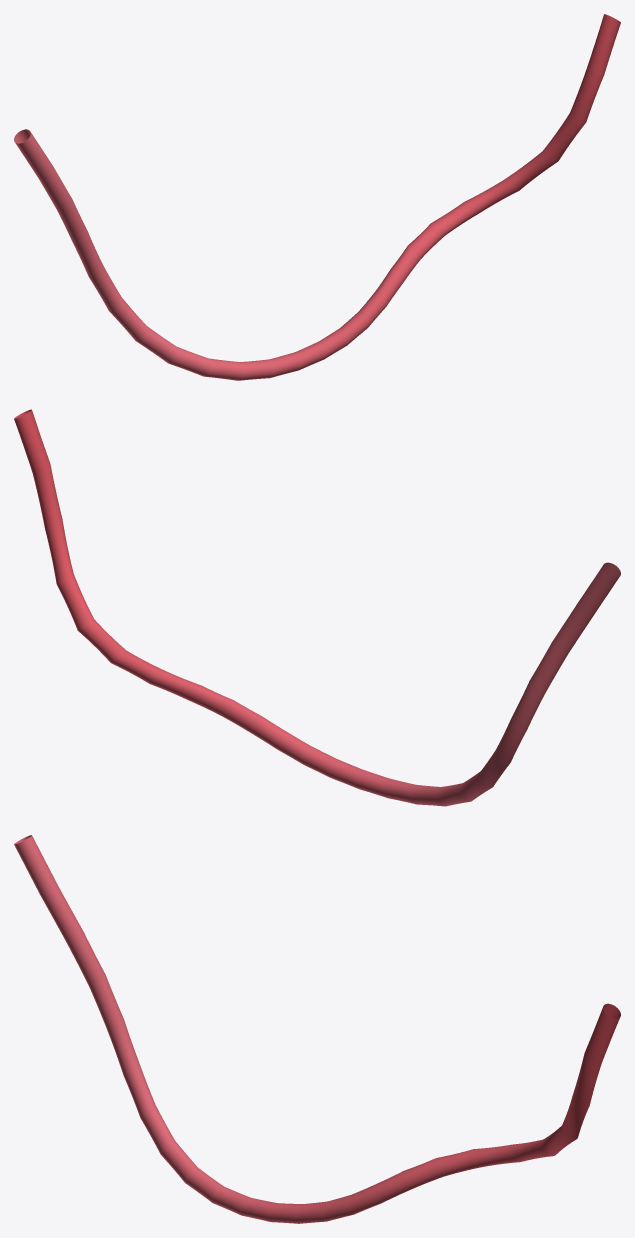
The model's file is caternarytwistcable2.fbx.
The picture shows the model from 3 angles, top to bottom: view 1: azimuth 30°, elevation 25°; view 2: azimuth 150°, elevation 25°; view 3: azimuth 330°, elevation 25°; orthographic projection. The views are drawn at different scales.
Visible parts, largest first — view 1: Catenary.002; view 2: Catenary.002; view 3: Catenary.002.
Boxes of the visible parts, <box> form: Catenary.002: <box>14,14,620,380</box>; Catenary.002: <box>14,409,620,806</box>; Catenary.002: <box>14,835,620,1223</box>.
Size of the model in its own units: 648 by 304 by 68.97.
